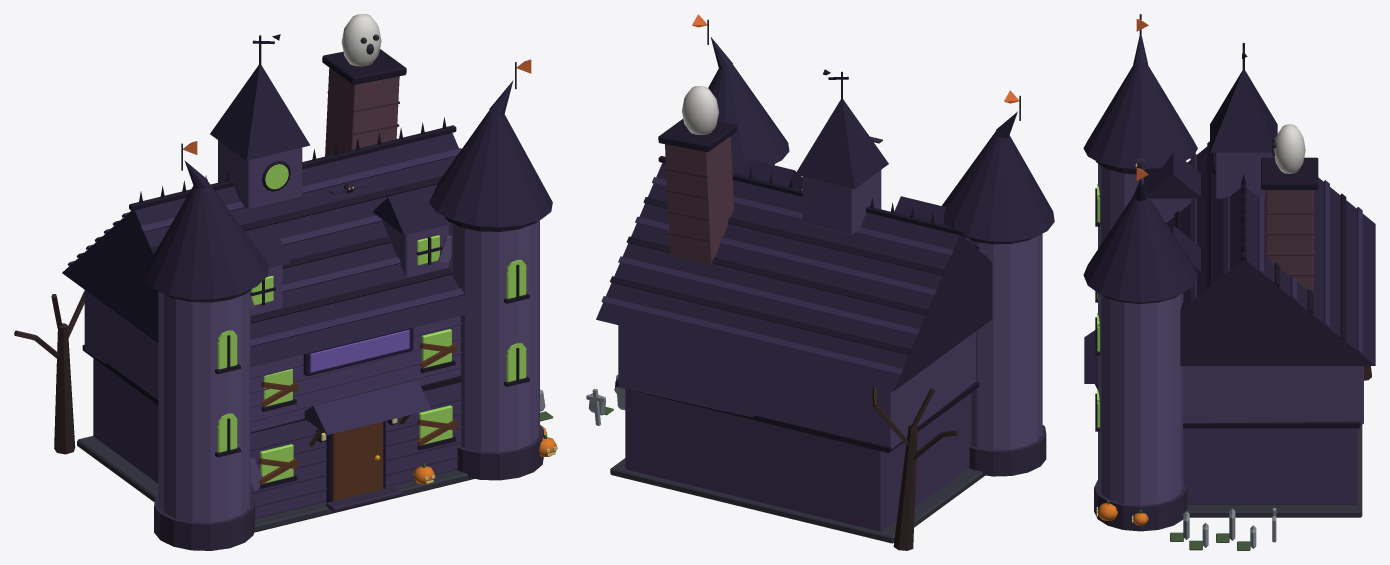
File: park-haunted.glb
3 renders of one model, left to right at view 1: azimuth 30°, elevation 25°; view 2: azimuth 150°, elevation 25°; view 3: azimuth 270°, elevation 25°, orthographic. The views are drawn at different scales.
Visible parts, largest first — view 1: pk_haunted_mesh, pk_haunted_door_mesh, pk_haunted_ghost_mesh; view 2: pk_haunted_mesh, pk_haunted_ghost_mesh; view 3: pk_haunted_mesh, pk_haunted_ghost_mesh.
Boxes of the visible parts, left/top/right/bottom form: pk_haunted_mesh: left=14, top=34, right=557, bottom=550; pk_haunted_door_mesh: left=332, top=421, right=383, bottom=501; pk_haunted_ghost_mesh: left=341, top=14, right=381, bottom=66; pk_haunted_mesh: left=586, top=14, right=1054, bottom=550; pk_haunted_ghost_mesh: left=682, top=86, right=718, bottom=134; pk_haunted_mesh: left=1083, top=14, right=1375, bottom=550; pk_haunted_ghost_mesh: left=1271, top=124, right=1305, bottom=173.
Size of the model in its own units: 12.48 by 11.36 by 7.65.
